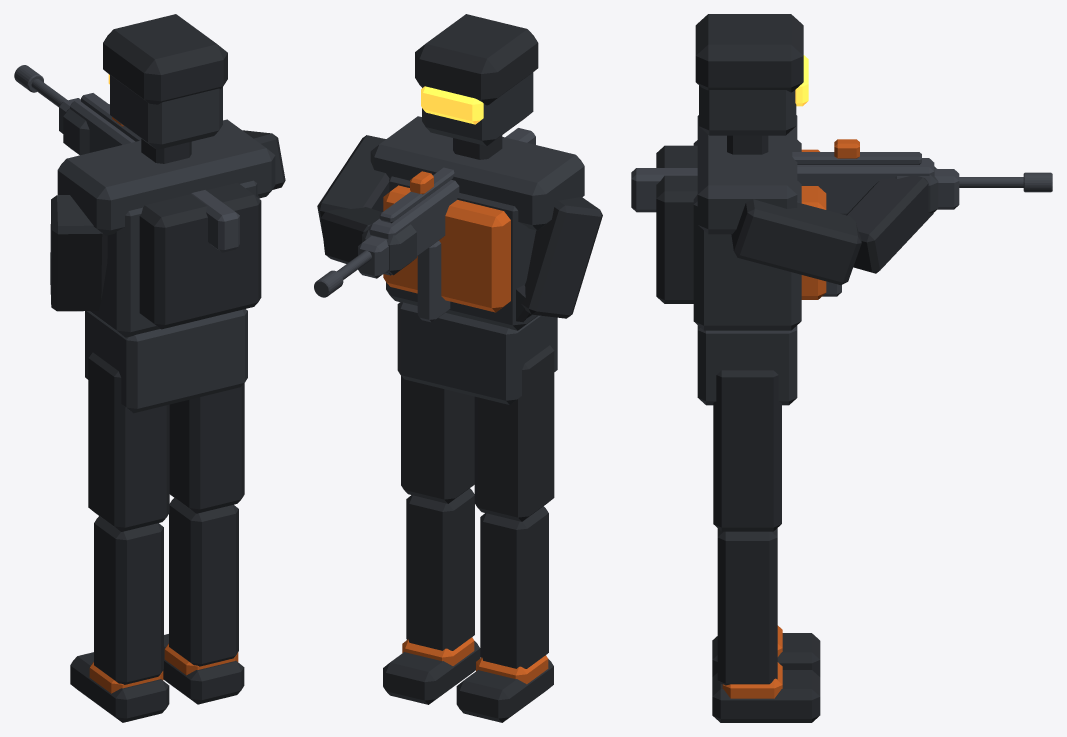
The model's file is enemy.glb.
3 renders of one model, left to right at view 1: azimuth 30°, elevation 25°; view 2: azimuth 150°, elevation 25°; view 3: azimuth 270°, elevation 25°, orthographic. The views are drawn at different scales.
Parts seen in each view (by area): view 1: backpack, shoulders, pelvis, leg_u_R, leg_l_L, leg_l_R, leg_u_L, helmet, arm_u_R, head, torso, foot_R (+10 smaller); view 2: shoulders, leg_u_R, pelvis, leg_l_L, leg_l_R, leg_u_L, chestplate, helmet, arm_u_R, torso, foot_R, foot_L (+13 smaller); view 3: leg_u_L, leg_l_L, torso, helmet, arm_u_L, shoulders, backpack, pelvis, arm_l_L, head, foot_L, er_body (+8 smaller).
Part boxes in pixels (x1,y1,x2,y2): backpack: [139, 182, 261, 329]; shoulders: [57, 119, 275, 235]; pelvis: [85, 309, 247, 413]; leg_u_R: [88, 352, 169, 531]; leg_l_L: [169, 498, 238, 666]; leg_l_R: [94, 516, 163, 684]; leg_u_L: [169, 383, 244, 513]; helmet: [103, 14, 227, 104]; arm_u_R: [50, 195, 107, 311]; head: [110, 75, 222, 149]; torso: [89, 180, 259, 337]; foot_R: [70, 652, 169, 722]; shoulders: [370, 116, 584, 230]; leg_u_R: [474, 345, 554, 521]; pelvis: [397, 302, 557, 404]; leg_l_L: [406, 488, 474, 650]; leg_l_R: [480, 506, 548, 668]; leg_u_L: [401, 376, 474, 503]; chestplate: [383, 185, 510, 312]; helmet: [415, 14, 538, 105]; arm_u_R: [521, 197, 602, 318]; torso: [386, 176, 538, 330]; foot_R: [456, 659, 553, 722]; foot_L: [383, 641, 480, 704]; leg_u_L: [713, 370, 781, 531]; leg_l_L: [717, 528, 777, 685]; torso: [693, 140, 801, 330]; helmet: [695, 14, 803, 92]; arm_u_L: [731, 199, 861, 285]; shoulders: [697, 115, 797, 234]; backpack: [656, 145, 697, 303]; pelvis: [697, 325, 797, 405]; arm_l_L: [846, 175, 933, 273]; head: [699, 85, 796, 135]; foot_L: [712, 670, 820, 722]; er_body: [797, 158, 934, 215].
Bounding box in the file's own units: 0.6587 × 1.77 × 1.02.
